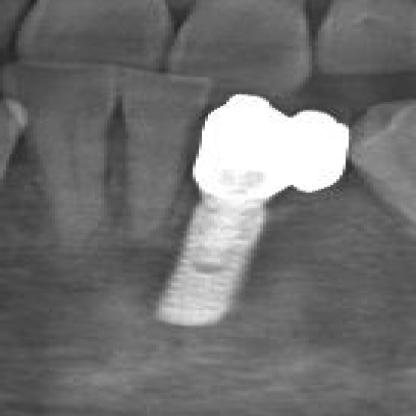ITI: (145, 198, 266, 331)
